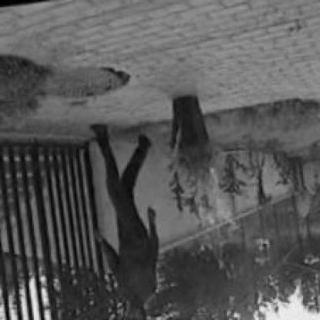Fire: (183, 160, 247, 263)
